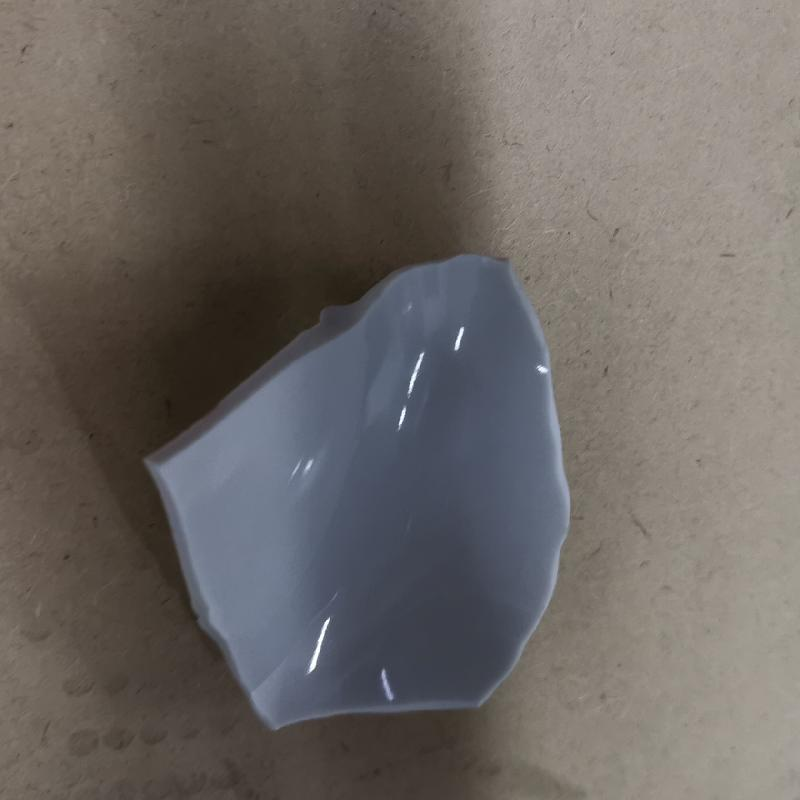ceram: (131, 242, 578, 744)
